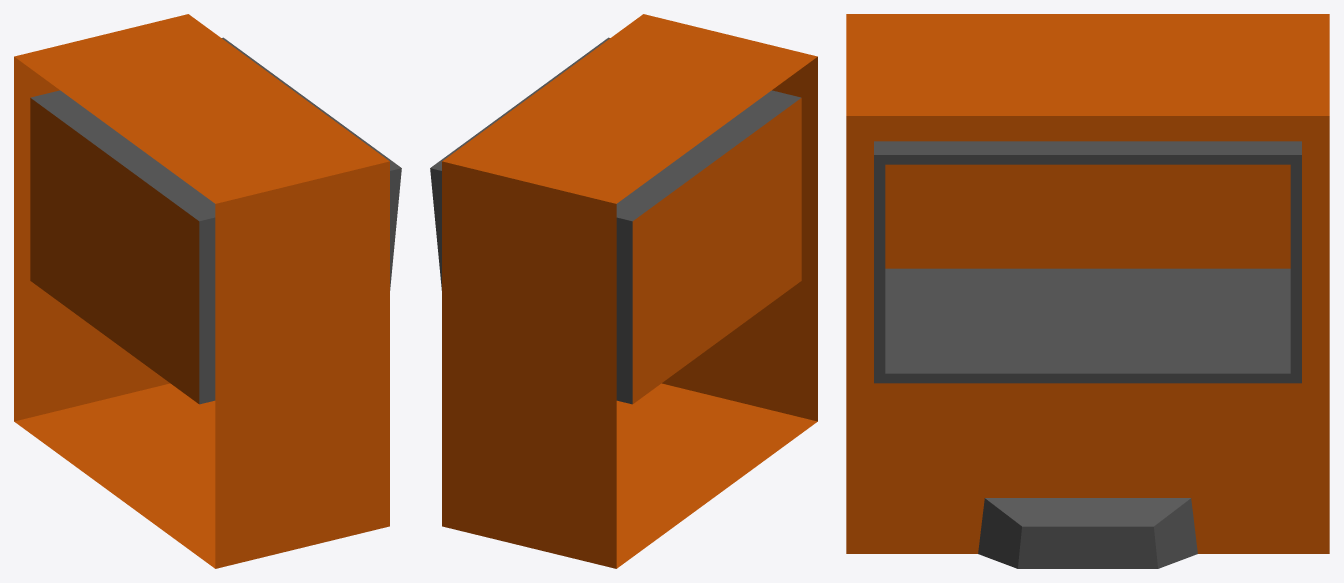
The model's file is Wall2.fbx.
3 views of the same model, side by side, from view 1: azimuth 30°, elevation 25°; view 2: azimuth 150°, elevation 25°; view 3: azimuth 270°, elevation 25° (orthographic). The views are drawn at different scales.
Visible parts, largest first — view 1: Wall2; view 2: Wall2; view 3: Wall2.
Boxes of the visible parts, x1,y1,x2,y2 form: Wall2: (14,14,401,568); Wall2: (430,14,817,568); Wall2: (846,14,1329,568).
Size of the model in its own units: 1.15 by 2 by 2.
